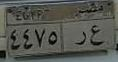4: (9, 28, 21, 53), (22, 28, 33, 50)
5: (48, 30, 58, 46)
7: (33, 28, 45, 49)
ain: (89, 23, 105, 46)
raa: (73, 30, 87, 47)
